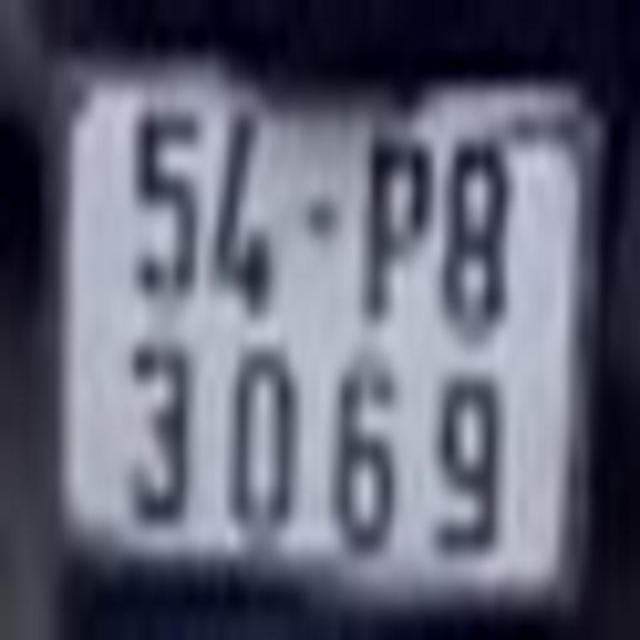0: (222, 343, 293, 555)
3: (125, 343, 190, 532)
4: (210, 110, 274, 324)
5: (132, 106, 196, 304)
6: (331, 351, 397, 563)
8: (445, 142, 507, 350)
9: (438, 374, 500, 566)
P: (366, 132, 430, 326)
